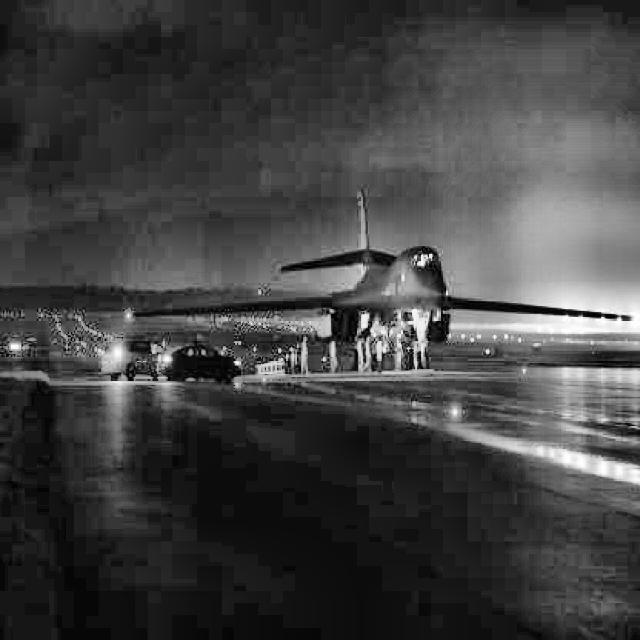B1: (121, 190, 638, 372)
